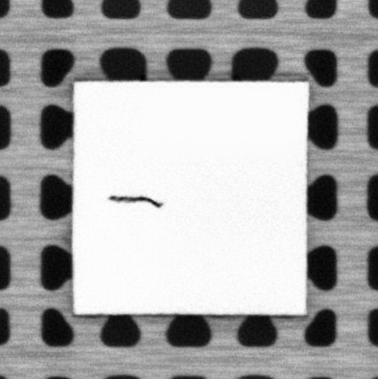DIE_INK: (108, 193, 161, 208)
